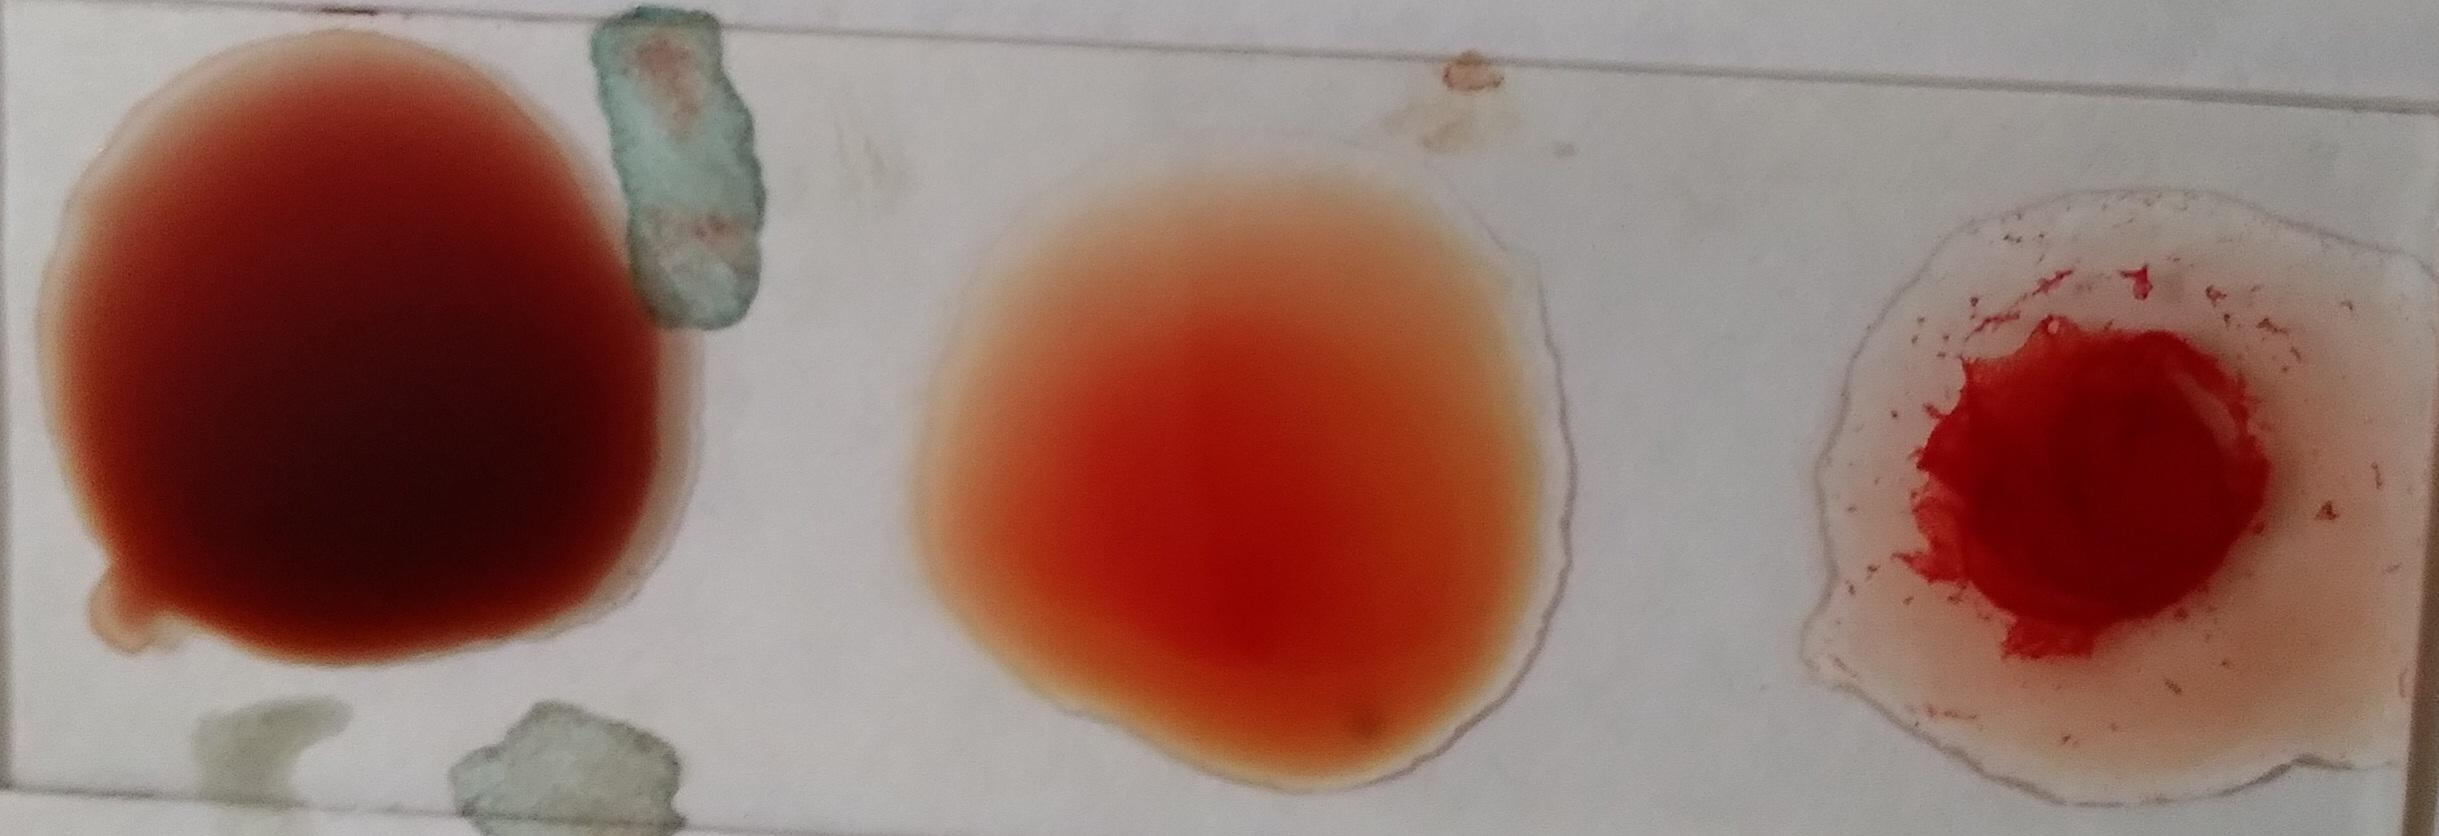D: (1856, 168, 2374, 796)
